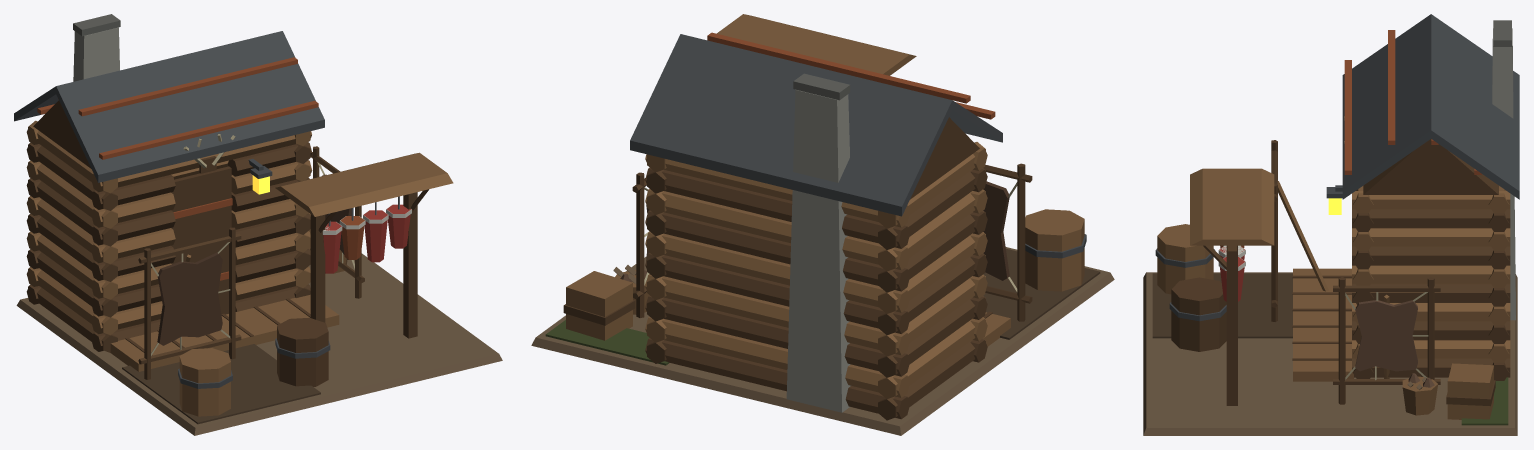
File: hunting_lodge_l3.glb
3 views of the same model, side by side, from view 1: azimuth 30°, elevation 25°; view 2: azimuth 150°, elevation 25°; view 3: azimuth 270°, elevation 25° (orthographic). The views are drawn at different scales.
Parts seen in each view (by area): view 1: hunting_lodge_l3_mesh; view 2: hunting_lodge_l3_mesh; view 3: hunting_lodge_l3_mesh.
Boxes of the visible parts, bbox=[...] form: hunting_lodge_l3_mesh: bbox=[14, 14, 502, 435]; hunting_lodge_l3_mesh: bbox=[531, 14, 1114, 435]; hunting_lodge_l3_mesh: bbox=[1143, 14, 1519, 435].
Size of the model in its own units: 4.02 by 3.36 by 4.02.
